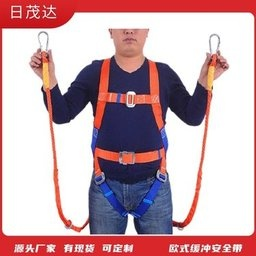safety belt: (80, 60, 182, 225)
